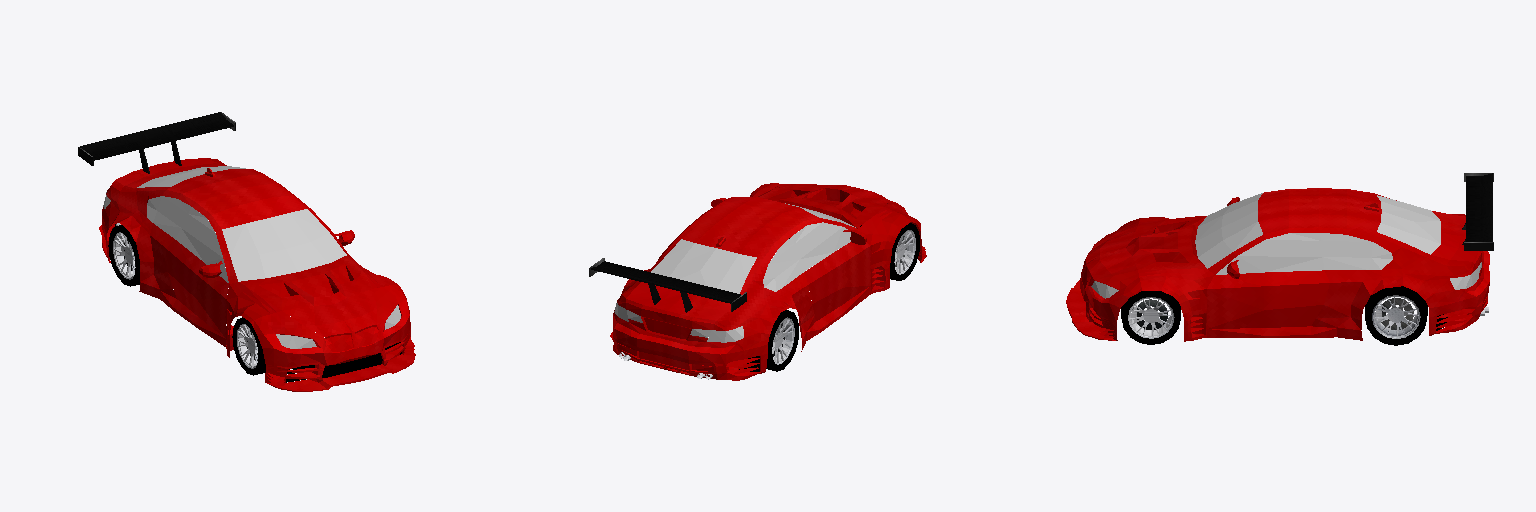
3 views of the same model, side by side, from view 1: azimuth 30°, elevation 25°; view 2: azimuth 150°, elevation 25°; view 3: azimuth 270°, elevation 25° (orthographic).
Visible parts, largest first — view 1: carroceria_polySurface38.097, espejos_polySurface38.136, negro_polySurface38.133, aluminio_polySurface38.091, llanta_polySurface38.083, negro_facia_polySurface38.148, faros_polySurface38.157; view 2: carroceria_polySurface38.097, espejos_polySurface38.136, negro_polySurface38.133, aluminio_polySurface38.091, llanta_polySurface38.083, cuartos_tra_polySurface38.000; view 3: carroceria_polySurface38.097, espejos_polySurface38.136, llanta_polySurface38.083, aluminio_polySurface38.091, negro_polySurface38.133, tambor_polySurface38.094.
Part boxes in pixels (x1,y1,x2,y2): carroceria_polySurface38.097: (99, 158, 415, 391); espejos_polySurface38.136: (137, 166, 346, 282); negro_polySurface38.133: (78, 112, 235, 173); aluminio_polySurface38.091: (113, 212, 257, 368); llanta_polySurface38.083: (108, 225, 265, 375); negro_facia_polySurface38.148: (115, 224, 401, 382); faros_polySurface38.157: (276, 305, 400, 348); carroceria_polySurface38.097: (610, 183, 926, 380); espejos_polySurface38.136: (651, 203, 855, 293); negro_polySurface38.133: (589, 258, 746, 312); aluminio_polySurface38.091: (619, 230, 915, 379); llanta_polySurface38.083: (766, 223, 919, 371); cuartos_tra_polySurface38.000: (614, 303, 743, 342); carroceria_polySurface38.097: (1066, 188, 1489, 341); espejos_polySurface38.136: (1195, 193, 1440, 274); llanta_polySurface38.083: (1121, 286, 1427, 345); aluminio_polySurface38.091: (1128, 295, 1488, 338); negro_polySurface38.133: (1462, 173, 1493, 250); tambor_polySurface38.094: (1137, 298, 1413, 329).
Bounding box in the file's own units: 1.91 × 1.26 × 4.58.
Materials: 9 (5 with a texture image).